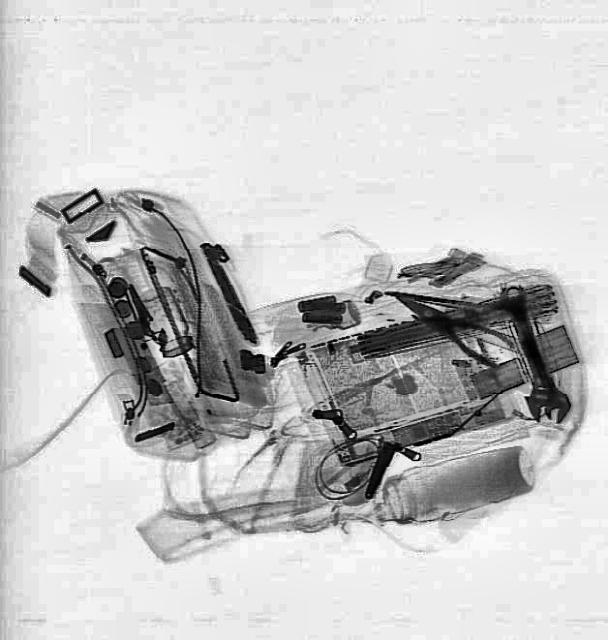Pliers: (384, 278, 516, 370)
Wrench: (492, 276, 576, 428)
